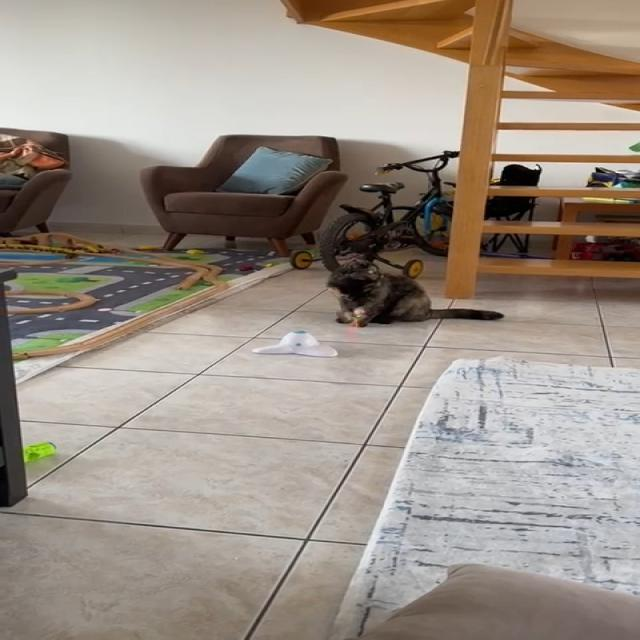authorized: (324, 259, 504, 327)
